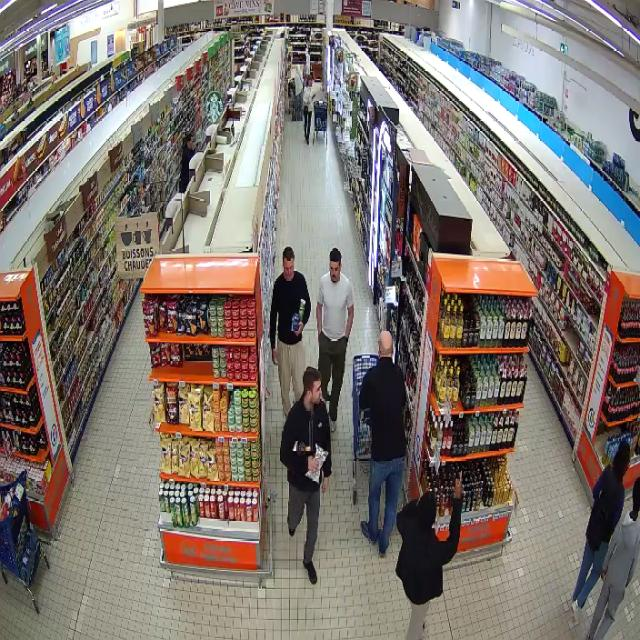article: (304, 444, 330, 483), (292, 439, 311, 454), (291, 313, 300, 331), (298, 298, 305, 321)
bags: (587, 468, 623, 550)
hands: (454, 472, 462, 498), (308, 456, 319, 473), (294, 323, 304, 336), (272, 348, 278, 366), (322, 477, 329, 492), (601, 569, 607, 580)
